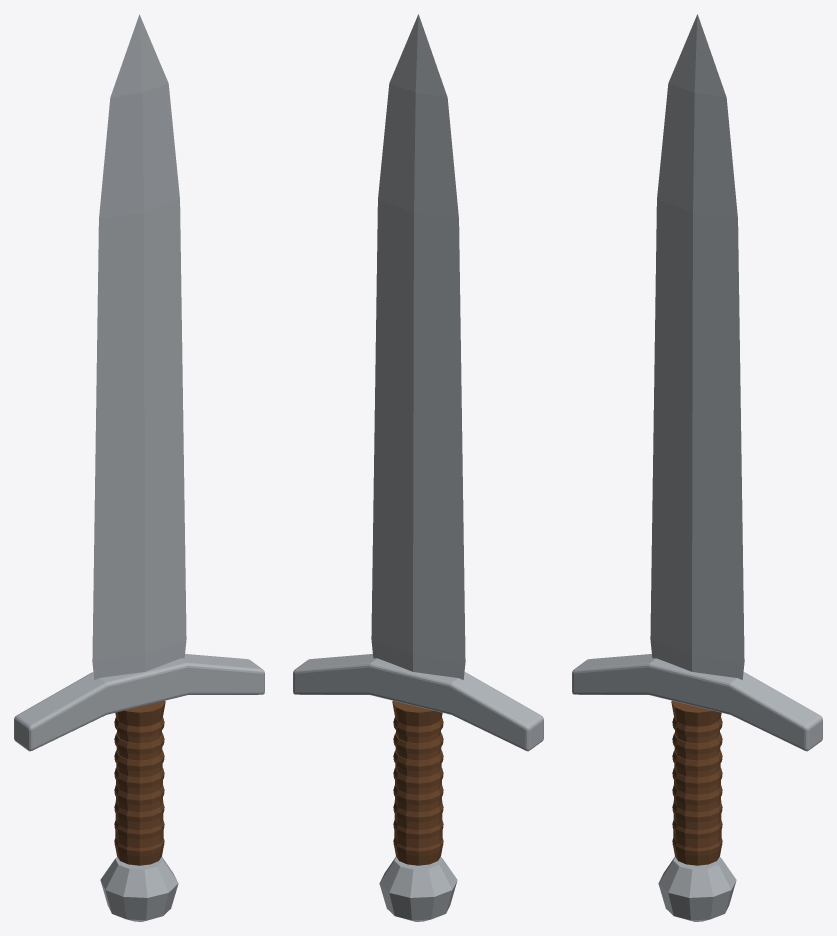
File: WarriorSword.glb
The picture shows the model from 3 angles, left to right: view 1: azimuth 30°, elevation 25°; view 2: azimuth 150°, elevation 25°; view 3: azimuth 330°, elevation 25°; orthographic projection.
Visible parts, largest first — view 1: Blade, Guard, Pommel, Grip, Leather wrap 06, Leather wrap 05, Leather wrap 04, Leather wrap 07, Leather wrap 03, Leather wrap 02; view 2: Blade, Guard, Pommel, Grip, Leather wrap 06, Leather wrap 05, Leather wrap 04, Leather wrap 07, Leather wrap 03, Leather wrap 02; view 3: Blade, Guard, Pommel, Grip, Leather wrap 06, Leather wrap 05, Leather wrap 04, Leather wrap 07, Leather wrap 03, Leather wrap 02.
Part boxes in pixels (bbox=[...]): Blade: bbox=[92, 14, 186, 679]; Guard: bbox=[14, 654, 264, 751]; Pommel: bbox=[100, 856, 178, 921]; Grip: bbox=[115, 700, 165, 865]; Leather wrap 06: bbox=[114, 732, 164, 754]; Leather wrap 05: bbox=[114, 750, 164, 771]; Leather wrap 04: bbox=[114, 768, 164, 788]; Leather wrap 07: bbox=[114, 717, 164, 737]; Leather wrap 03: bbox=[114, 785, 164, 805]; Leather wrap 02: bbox=[114, 802, 164, 822]; Blade: bbox=[371, 14, 465, 679]; Guard: bbox=[293, 654, 543, 751]; Pommel: bbox=[379, 856, 457, 921]; Grip: bbox=[392, 700, 442, 865]; Leather wrap 06: bbox=[393, 732, 443, 754]; Leather wrap 05: bbox=[393, 750, 443, 771]; Leather wrap 04: bbox=[393, 768, 443, 788]; Leather wrap 07: bbox=[393, 717, 443, 737]; Leather wrap 03: bbox=[393, 785, 443, 805]; Leather wrap 02: bbox=[393, 802, 443, 822]; Blade: bbox=[650, 14, 744, 679]; Guard: bbox=[572, 654, 822, 751]; Pommel: bbox=[658, 856, 736, 921]; Grip: bbox=[671, 700, 721, 865]; Leather wrap 06: bbox=[672, 732, 722, 754]; Leather wrap 05: bbox=[672, 750, 722, 771]; Leather wrap 04: bbox=[672, 768, 722, 788]; Leather wrap 07: bbox=[672, 717, 722, 737]; Leather wrap 03: bbox=[672, 785, 722, 805]; Leather wrap 02: bbox=[672, 802, 722, 822].
Size of the model in its own units: 0.146 by 0.532 by 0.0399.
